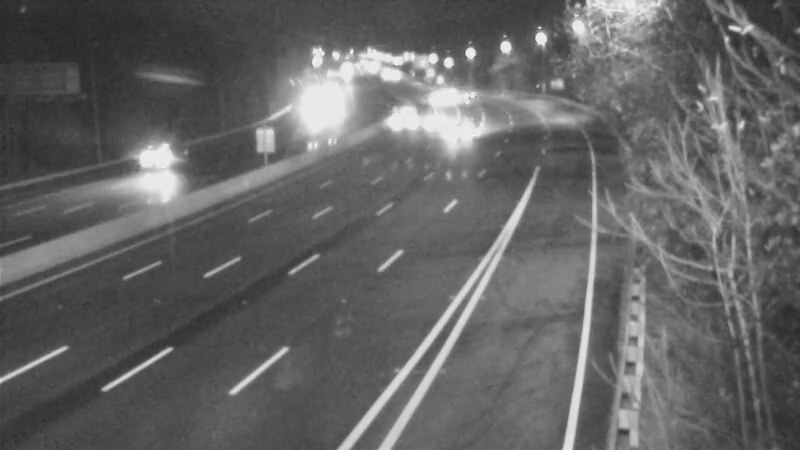vehicle: (104, 114, 184, 194), (444, 68, 494, 118), (413, 70, 463, 120), (406, 96, 456, 146), (380, 93, 430, 143), (431, 107, 481, 157)
